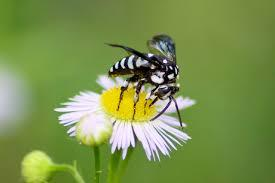Thyreus: (98, 33, 195, 123)
